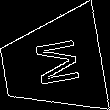M_W: (25, 37, 80, 91)
